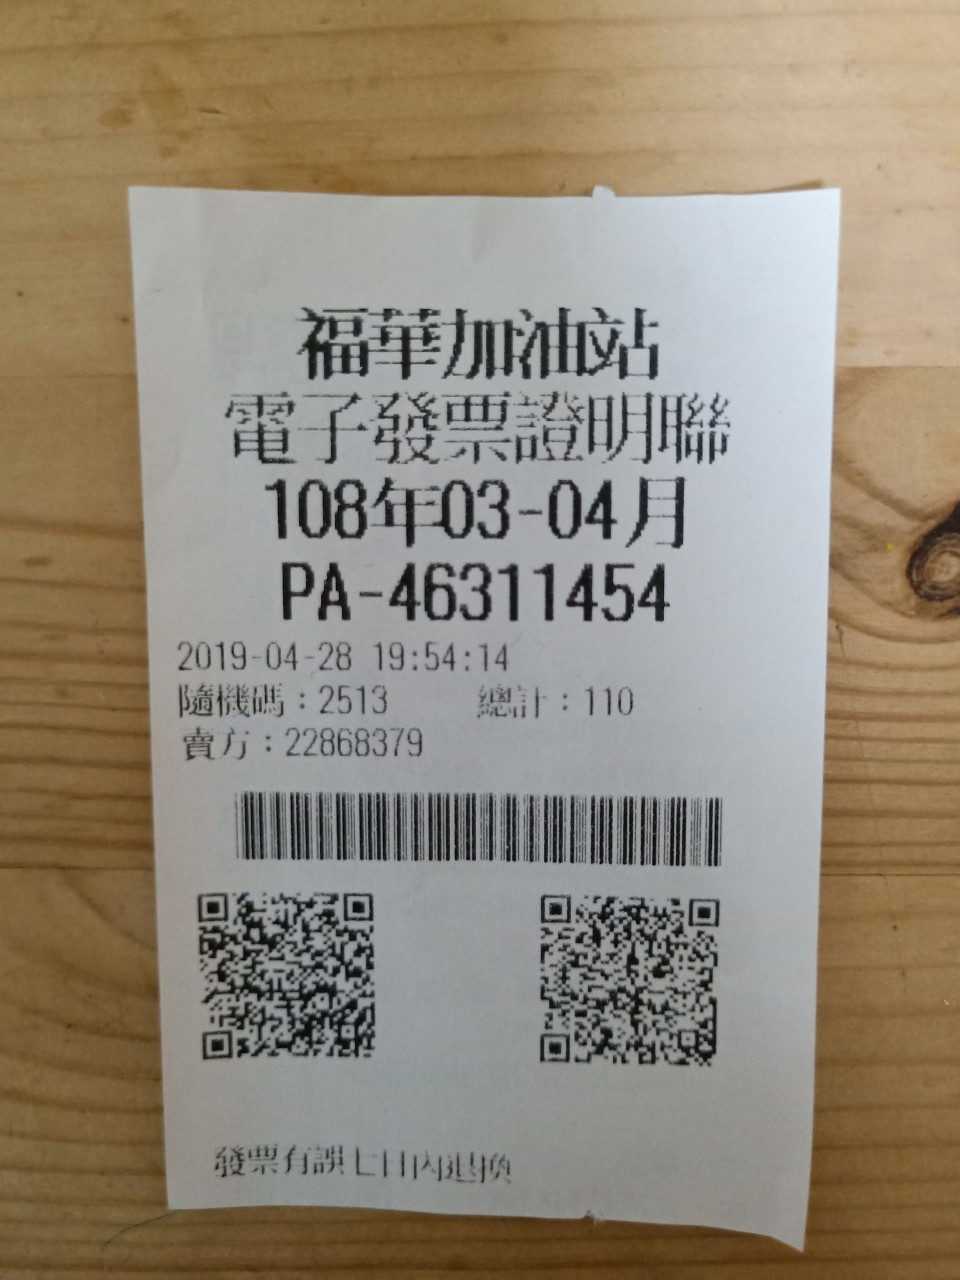Date_New: (265, 472, 693, 553)
Number_New: (381, 562, 683, 628)
